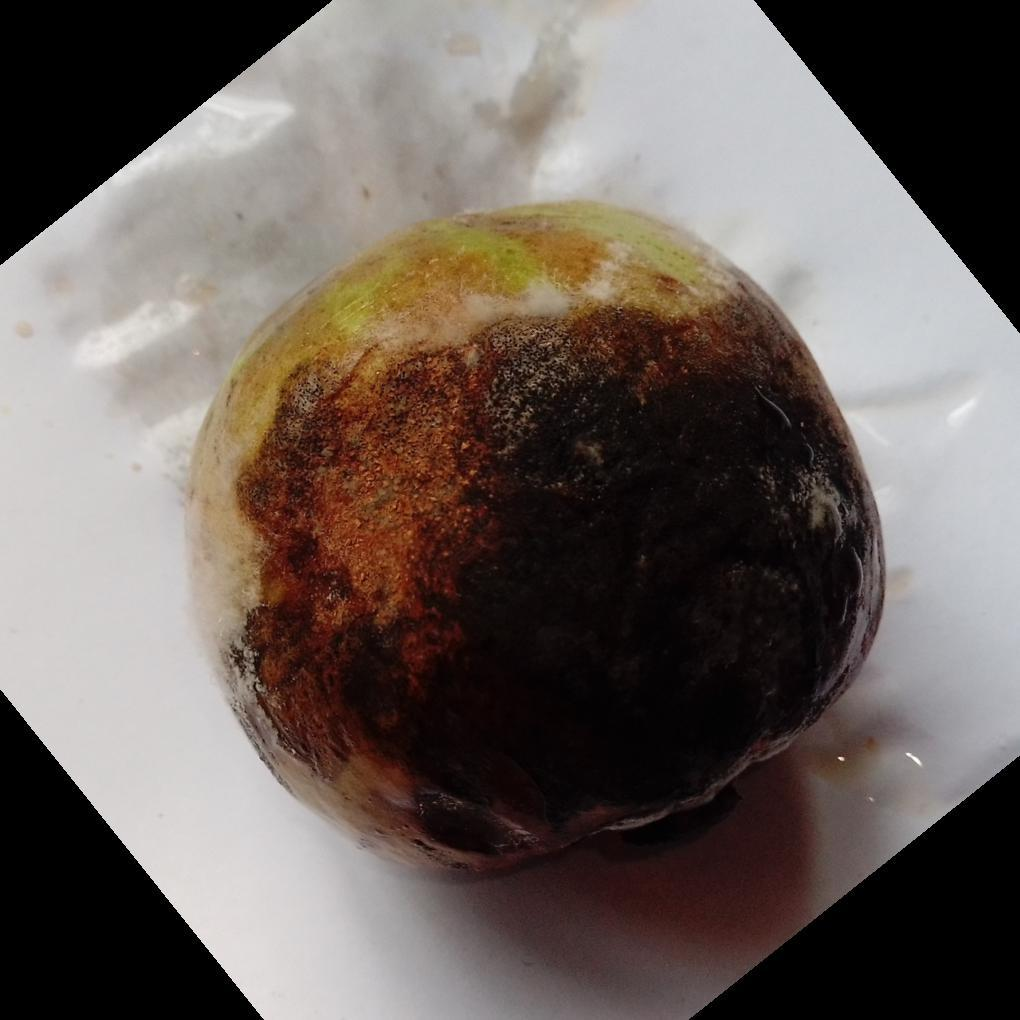FreshOrange: (184, 201, 885, 884)
